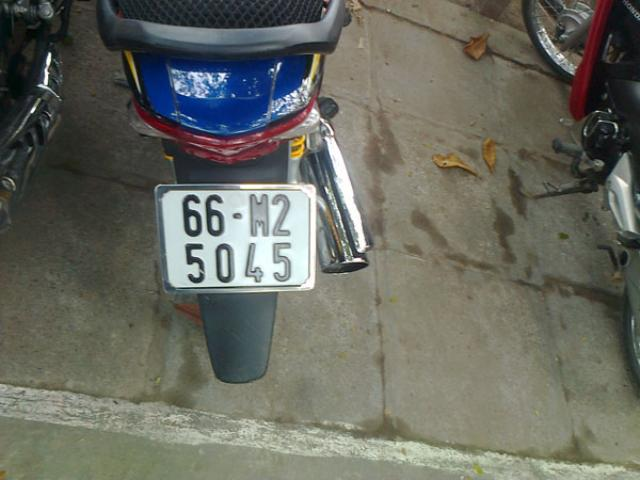plate: (158, 186, 312, 292)
